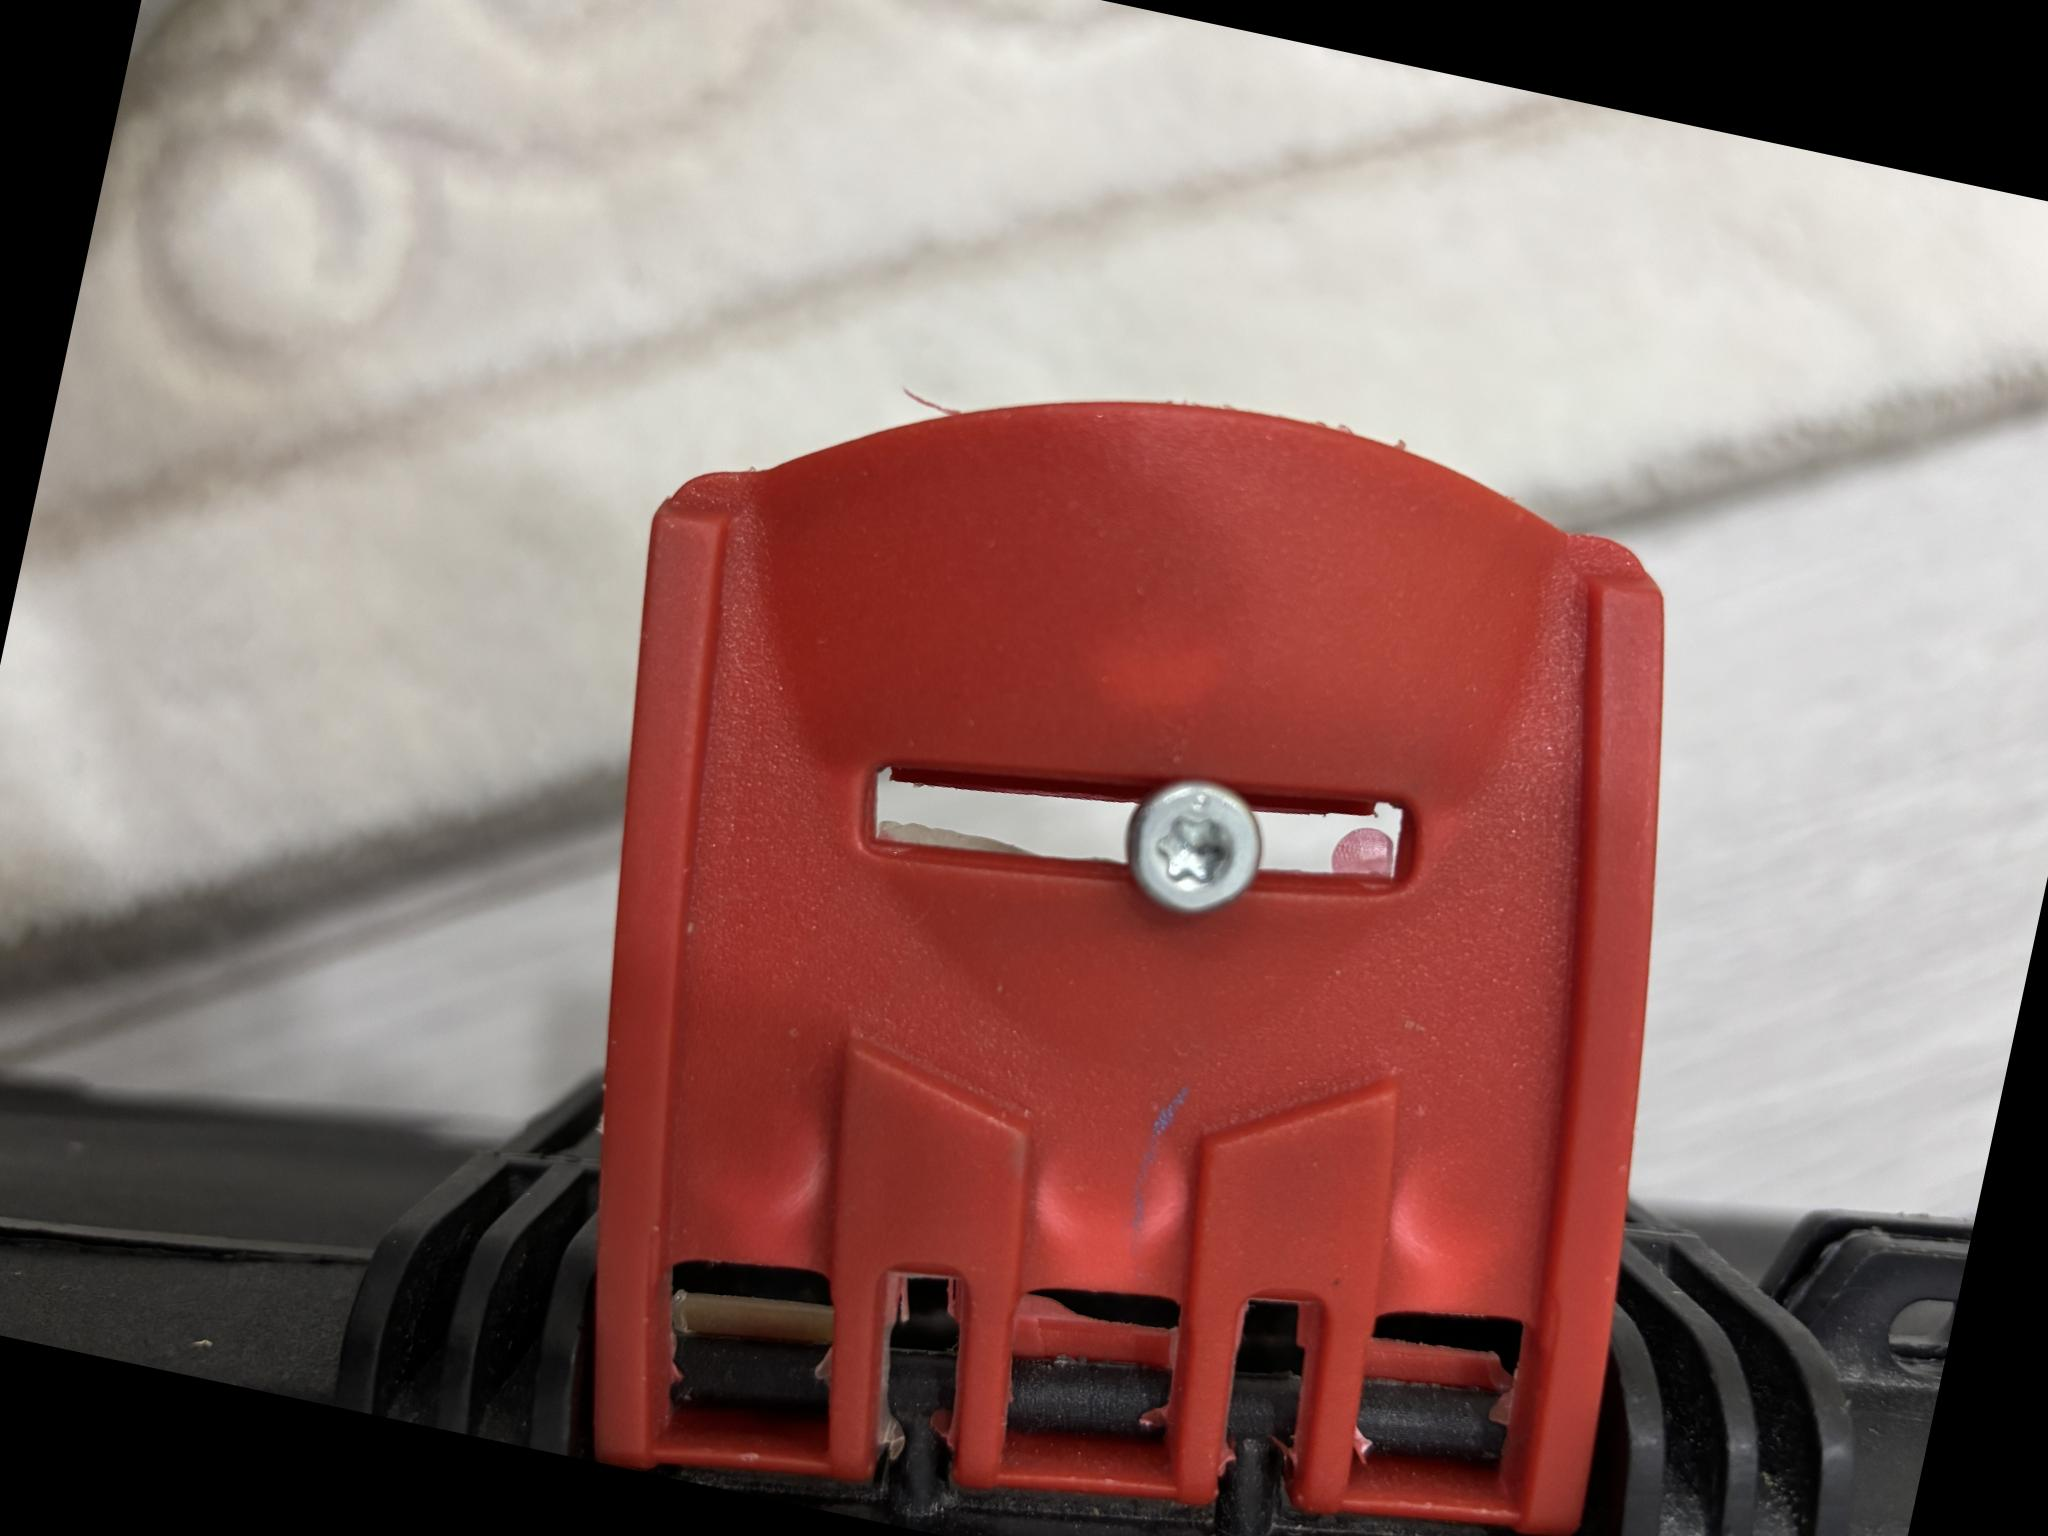H: (1232, 836, 1366, 968)
